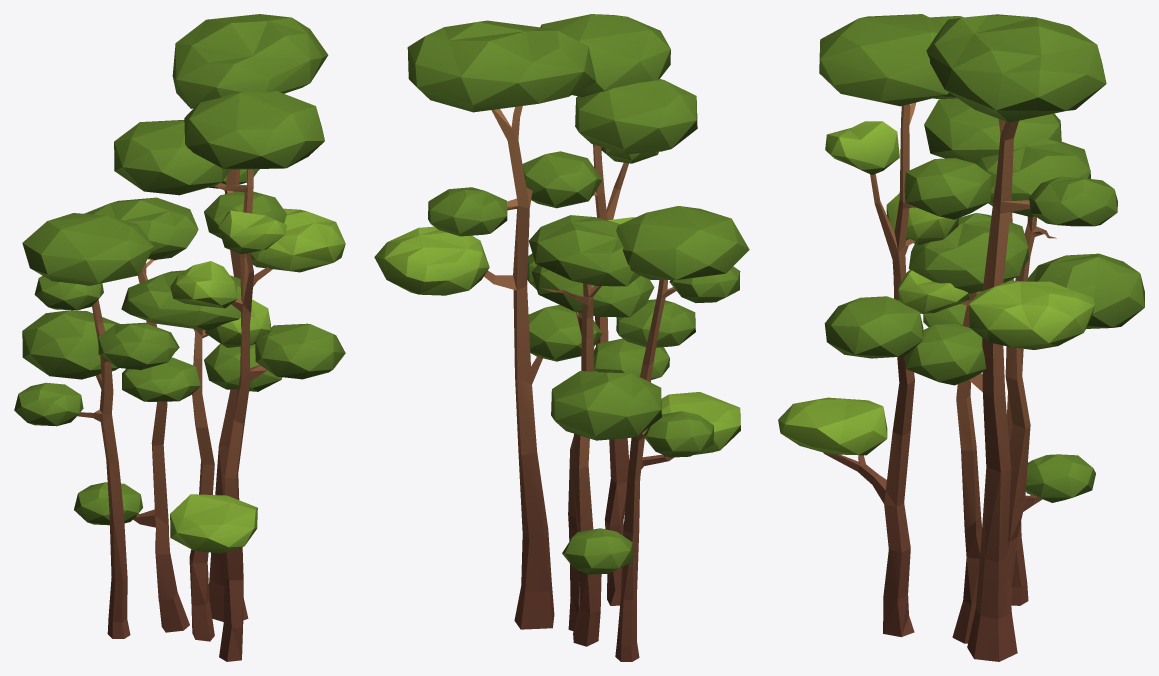
The model's file is ZLP_Plant_F_10.FBX.
The picture shows the model from 3 angles, left to right: view 1: azimuth 30°, elevation 25°; view 2: azimuth 150°, elevation 25°; view 3: azimuth 270°, elevation 25°; orthographic projection. The views are drawn at different scales.
Visible parts, largest first — view 1: ZLP_Plant_F_10; view 2: ZLP_Plant_F_10; view 3: ZLP_Plant_F_10.
Part boxes in pixels (x1,y1,x2,y2): ZLP_Plant_F_10: [14, 14, 345, 661]; ZLP_Plant_F_10: [374, 14, 749, 661]; ZLP_Plant_F_10: [778, 14, 1144, 661].
Bounding box in the file's own units: 369 × 626 × 323.
